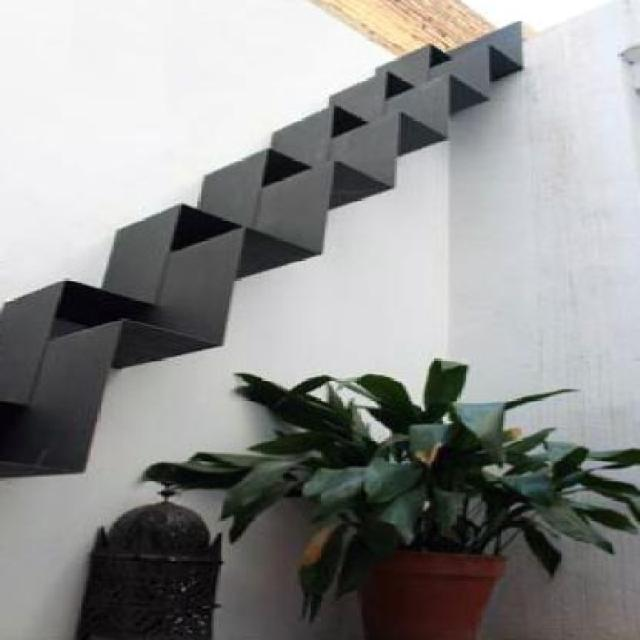stair: (2, 18, 552, 464)
